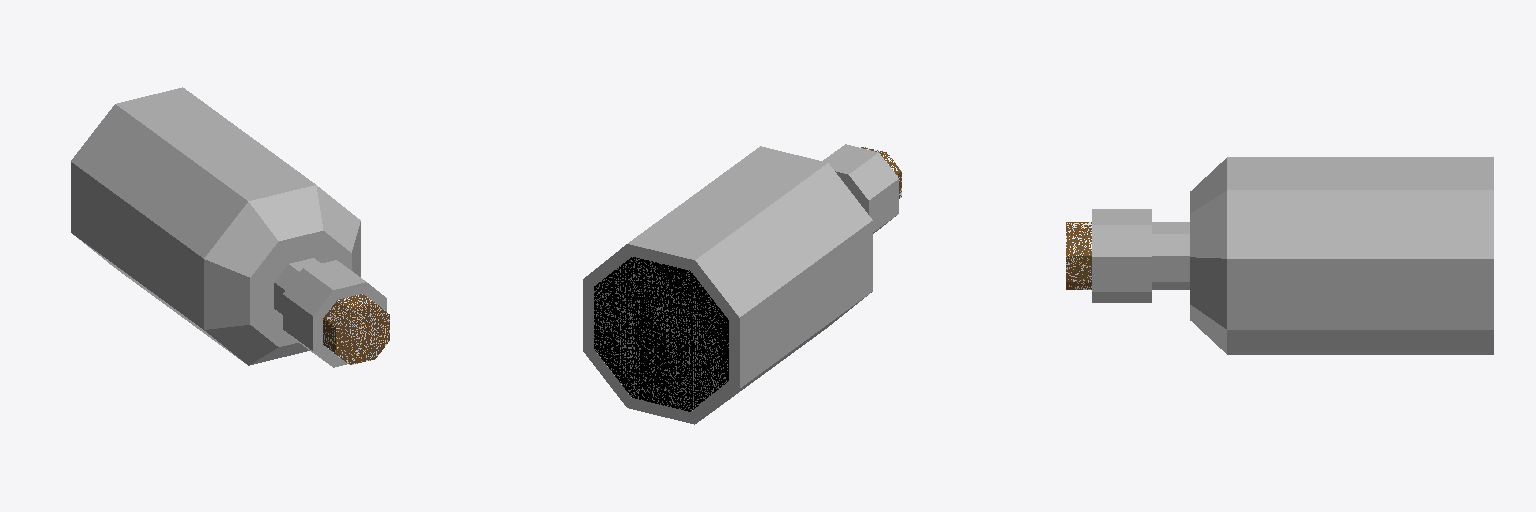
The model's file is model_align.obj.
3 views of the same model, side by side, from view 1: azimuth 30°, elevation 25°; view 2: azimuth 150°, elevation 25°; view 3: azimuth 270°, elevation 25° (orthographic).
Size of the model in its own units: 0.0572 by 0.0572 by 0.1348.